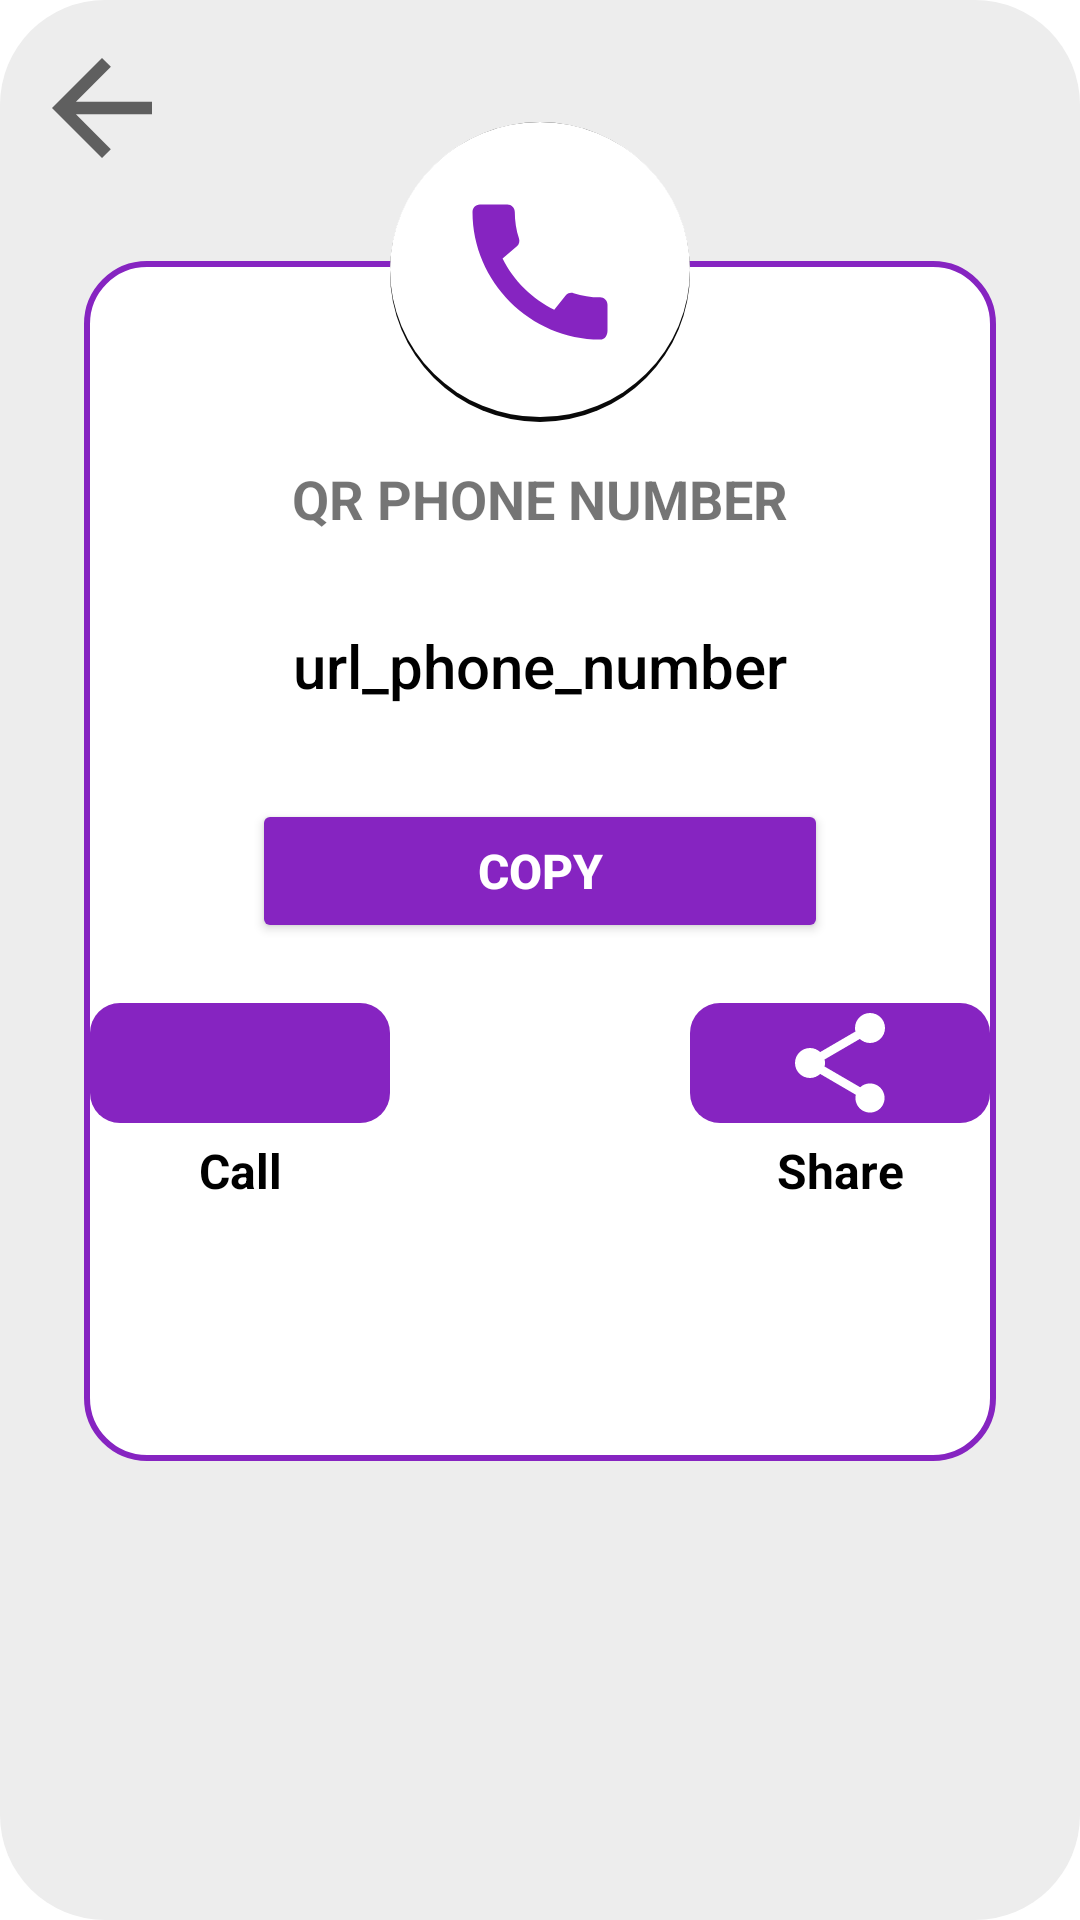

Named icons in this screenshot (1080x1920) and their bounding boxes, (x1, y1, x2, y2):
arrow back: (52, 58, 152, 158)
